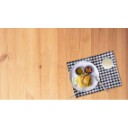briyani: (78, 75, 91, 88)
